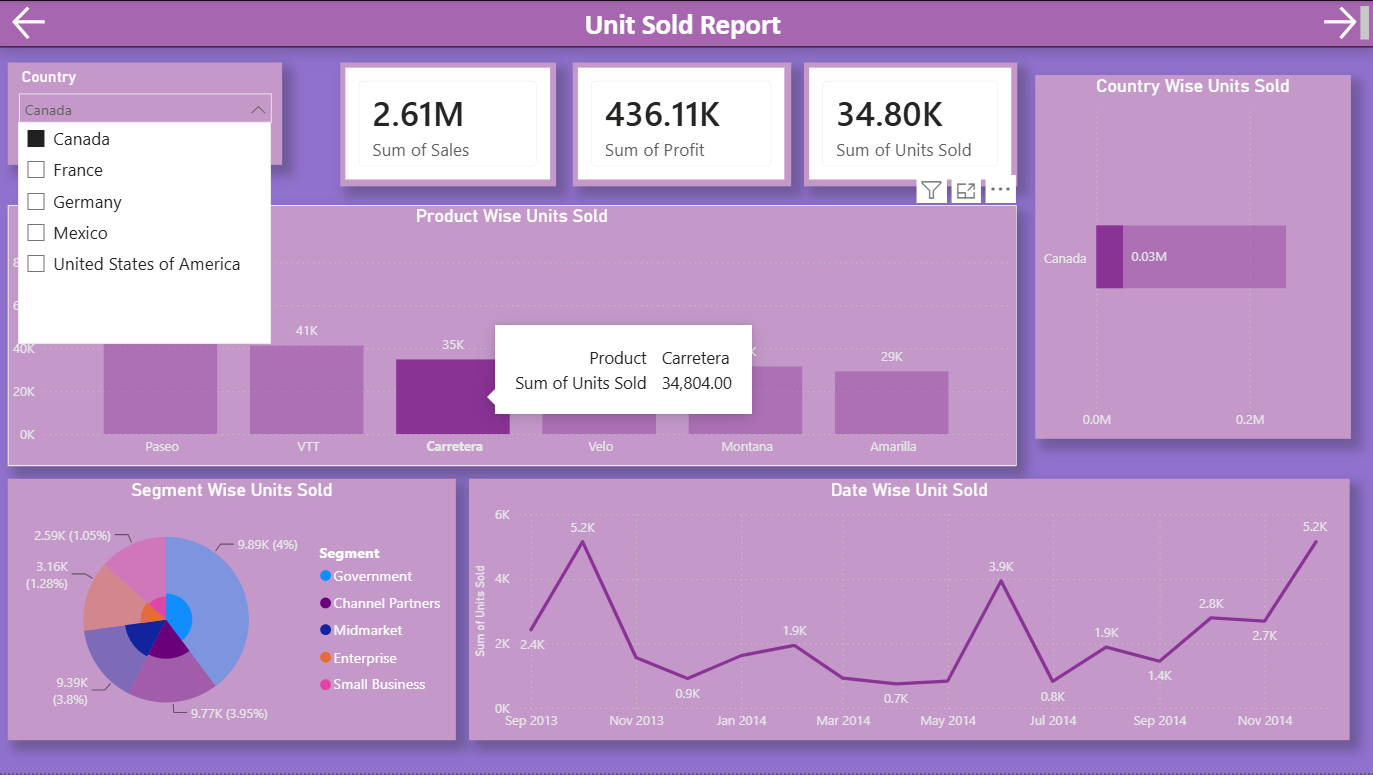

The dashboard page shown, as its layout file describes it:
{"tool":"powerbi","page":{"name":"Unit Sold Report","canvas":[1280,720],"ordinal":3},"visuals":[{"type":"textbox","box":[0,0,1280.3,44],"z":0},{"type":"slicer","fields":{"Values":["financials.Country"]},"box":[8.6,58.7,255.6,95.4],"z":1000},{"type":"cardVisual","fields":{"Data":["Sum(financials. Sales)"]},"box":[317.9,58.7,200.5,114.9],"z":2000},{"type":"cardVisual","fields":{"Data":["Sum(financials.Profit)"]},"box":[533.2,58.7,203,114.9],"z":3000},{"type":"cardVisual","fields":{"Data":["Sum(financials.Units Sold)"]},"box":[748.4,58.7,198.1,114.9],"z":4000},{"type":"columnChart","title":"Product Wise Units Sold","fields":{"Category":["financials.Product"],"Y":["Sum(financials.Units Sold)"]},"box":[8.6,190.8,937.9,243.3],"z":5000},{"type":"pieChart","title":"Segment Wise Units Sold","fields":{"Category":["financials.Segment"],"Y":["Sum(financials.Units Sold)"]},"box":[8.6,445.1,417,243.3],"z":6000},{"type":"barChart","title":"Country Wise Units Sold","fields":{"Category":["financials.Country"],"Y":["Sum(financials.Units Sold)"]},"box":[963.6,69.7,293.5,338.7],"z":7000},{"type":"lineChart","title":"Date Wise Unit Sold","fields":{"Category":["financials.Date.Variation.Date Hierarchy.Year","financials.Date.Variation.Date Hierarchy.Quarter","financials.Date.Variation.Date Hierarchy.Month","financials.Date.Variation.Date Hierarchy.Day"],"Y":["Sum(financials.Units Sold)"]},"box":[437.8,445.1,819.3,243.3],"z":8000},{"type":"actionButton","box":[8.6,1.2,48.9,40.4],"z":9000},{"type":"actionButton","box":[1226.5,1.2,45.2,40.4],"z":10000}]}

Visuals, with their boxes in screenshot pixels (x1, y1, x2, y2), scaled from the page's 1280x720 canvas onto the 1373x775 screenshot:
textbox: <region>0, 0, 1372, 47</region>
slicer - financials.Country: <region>9, 63, 283, 166</region>
cardVisual - Sum(financials. Sales): <region>341, 63, 556, 187</region>
cardVisual - Sum(financials.Profit): <region>572, 63, 790, 187</region>
cardVisual - Sum(financials.Units Sold): <region>803, 63, 1015, 187</region>
"Product Wise Units Sold" columnChart: <region>9, 205, 1015, 467</region>
"Segment Wise Units Sold" pieChart: <region>9, 479, 457, 741</region>
"Country Wise Units Sold" barChart: <region>1034, 75, 1348, 440</region>
"Date Wise Unit Sold" lineChart: <region>470, 479, 1348, 741</region>
actionButton: <region>9, 1, 62, 45</region>
actionButton: <region>1316, 1, 1364, 45</region>
